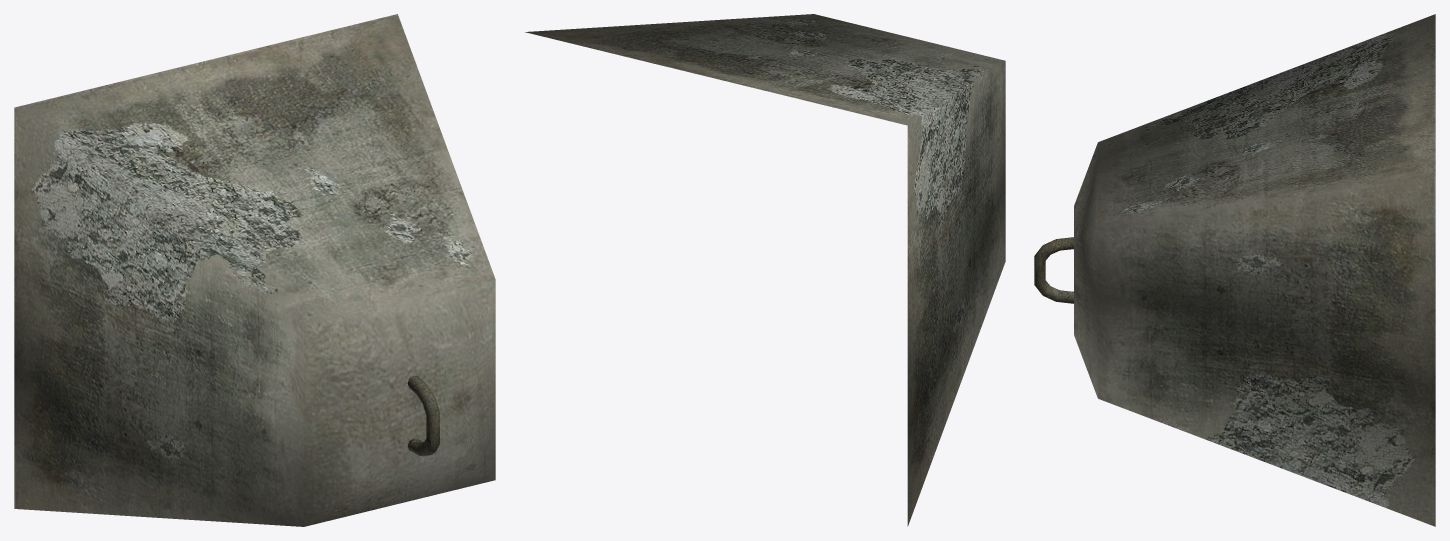
Rendered from military_dragonstooth_egypt_d.glb.
3 views of the same model, side by side, from view 1: azimuth 30°, elevation 25°; view 2: azimuth 150°, elevation 25°; view 3: azimuth 270°, elevation 25° (orthographic). The views are drawn at different scales.
Size of the model in its own units: 64 by 64 by 66.56.
1 material, 1 textured.
